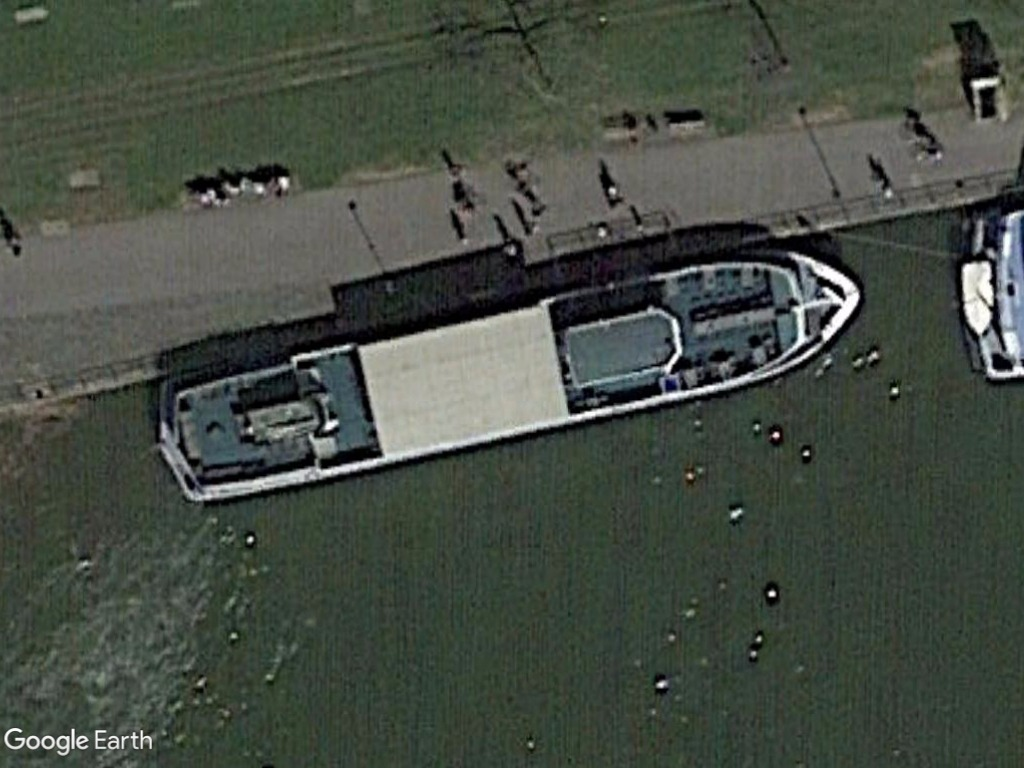boat: (144, 240, 869, 511)
